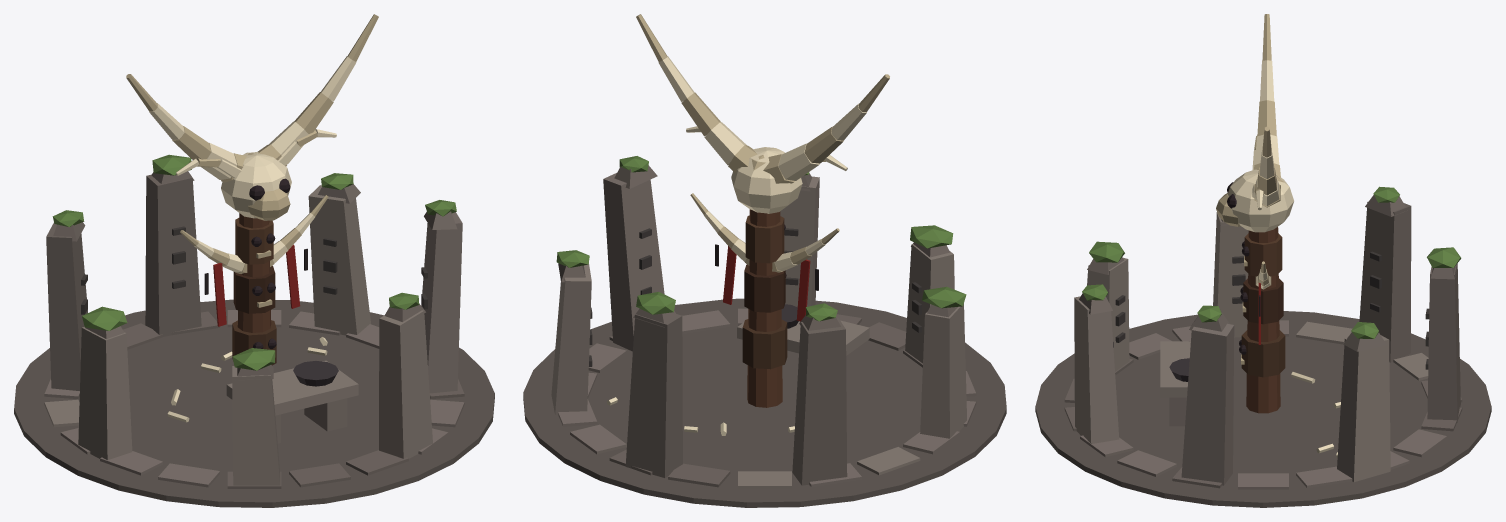
Rendered from altar-BLnKV2Du.glb.
The picture shows the model from 3 angles, left to right: view 1: azimuth 30°, elevation 25°; view 2: azimuth 150°, elevation 25°; view 3: azimuth 270°, elevation 25°; orthographic projection. The views are drawn at different scales.
Visible parts, largest first — view 1: altar; view 2: altar; view 3: altar.
Part boxes in pixels (left/top/right/bottom): altar: left=14, top=14, right=494, bottom=507; altar: left=523, top=14, right=1006, bottom=507; altar: left=1035, top=14, right=1491, bottom=507.
Bounding box in the file's own units: 6.3 × 5.39 × 6.3.
